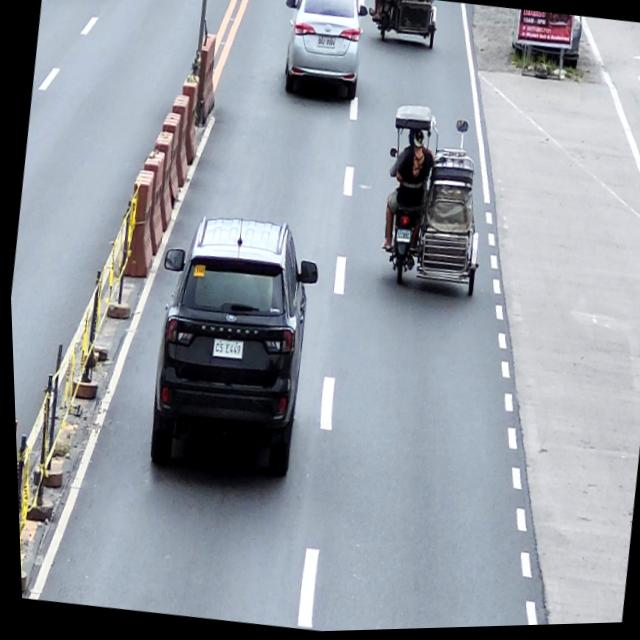Car: (131, 209, 328, 490), (274, 0, 373, 105)
License-Plate: (209, 339, 242, 360), (316, 38, 336, 52), (394, 231, 410, 245)
Tricycle: (368, 103, 499, 303), (371, 0, 440, 51)
